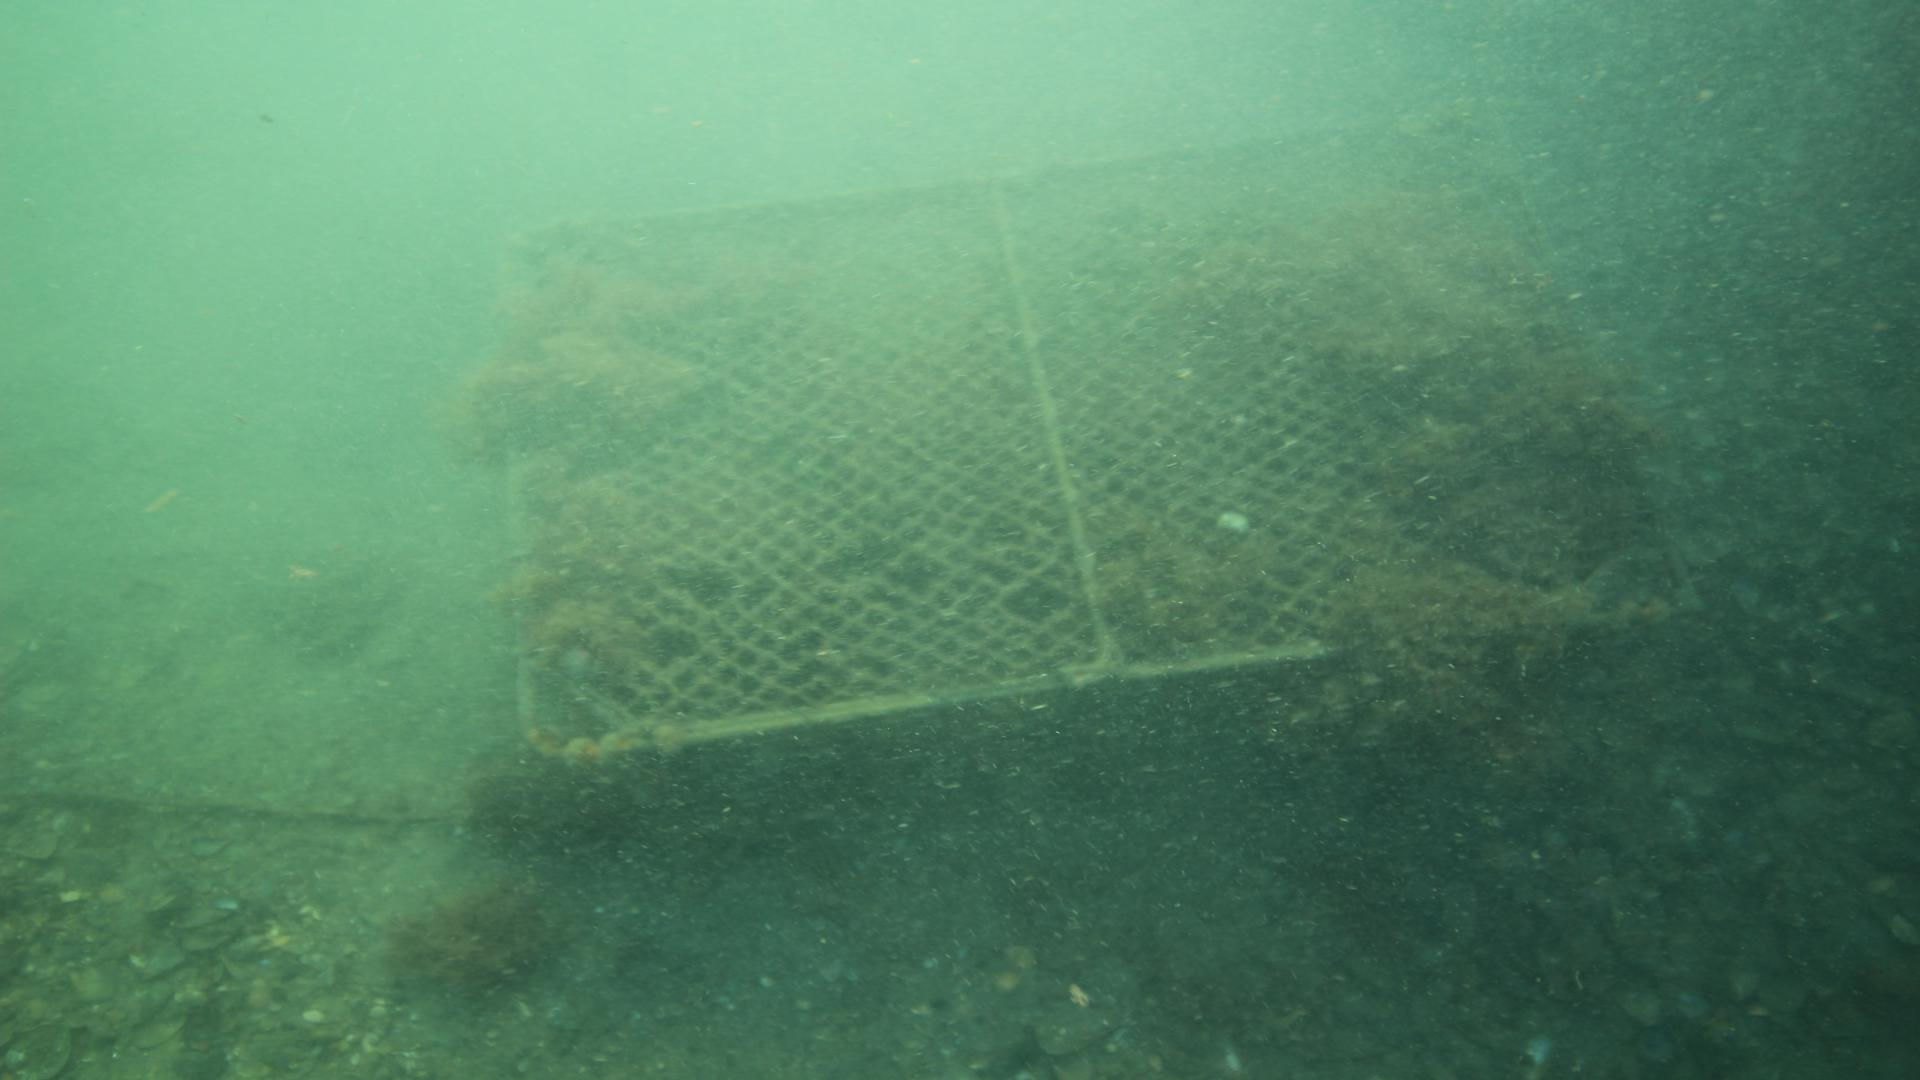rectangular fish trap: (498, 123, 1725, 760)
